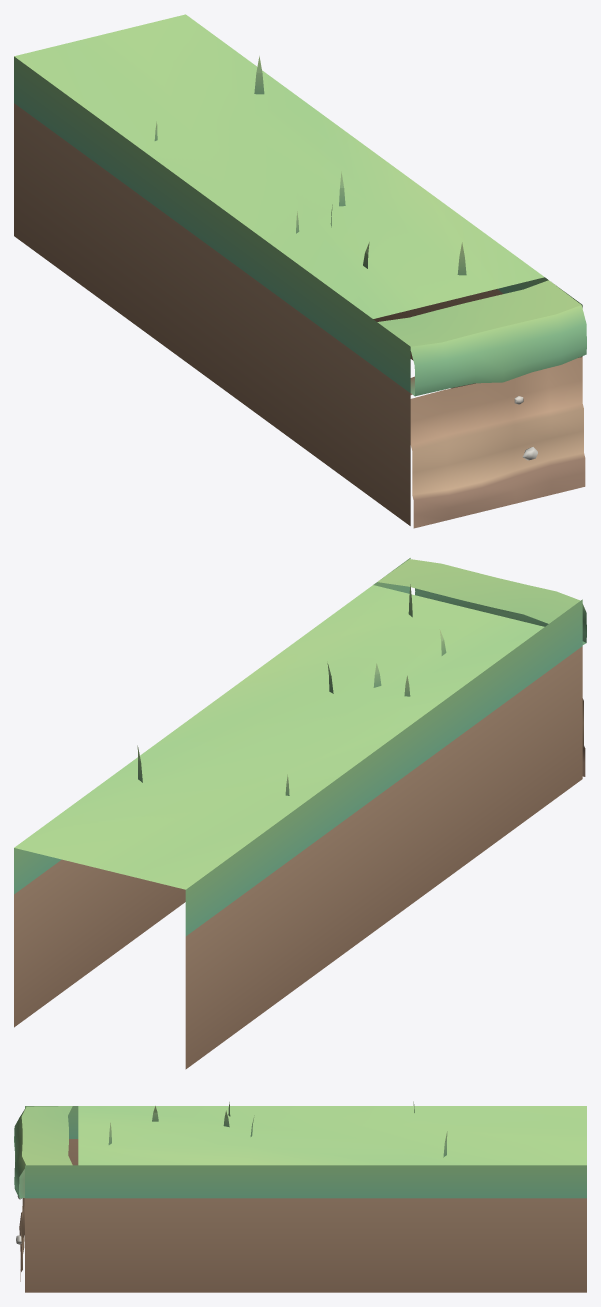
The model's file is groundlite_grass_2.glb.
3 views of the same model, one above another, from view 1: azimuth 30°, elevation 25°; view 2: azimuth 150°, elevation 25°; view 3: azimuth 270°, elevation 25° (orthographic). The views are drawn at different scales.
Visible parts, largest first — view 1: groundlite_grass_2; view 2: groundlite_grass_2; view 3: groundlite_grass_2.
Boxes of the visible parts, x1,y1,x2,y2 form: groundlite_grass_2: (14, 14, 586, 528); groundlite_grass_2: (14, 558, 586, 1069); groundlite_grass_2: (14, 1101, 586, 1292).
Size of the model in its own units: 1 by 1.21 by 4.08.
